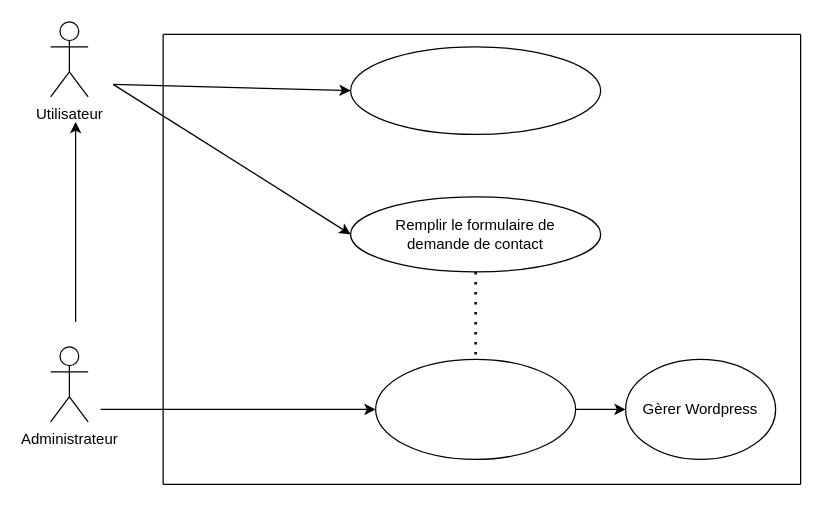
Image size: 824x508. Some labels were removed from this diagram. The centre of each missing label's shape, as x and y in pixels:
consulter: pixel 475 90
S'authentifier: pixel 475 408
